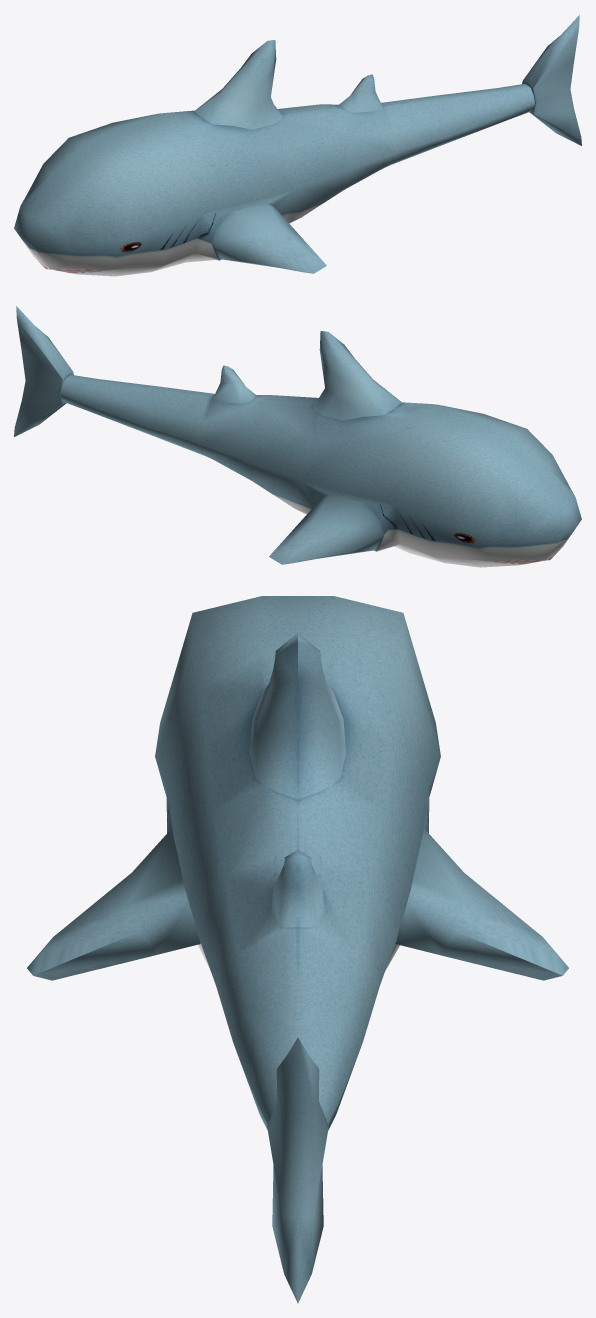
Rendered from Blueshark.fbx.
The picture shows the model from 3 angles, top to bottom: view 1: azimuth 30°, elevation 25°; view 2: azimuth 150°, elevation 25°; view 3: azimuth 270°, elevation 25°; orthographic projection. The views are drawn at different scales.
Visible parts, largest first — view 1: Plane; view 2: Plane; view 3: Plane.
Boxes of the visible parts, <box> form: Plane: <box>14,15,581,276</box>; Plane: <box>14,306,581,567</box>; Plane: <box>27,596,568,1303</box>.
Bounding box in the file's own units: 672 × 221 × 280.
Materials: 1 (1 with a texture image).
